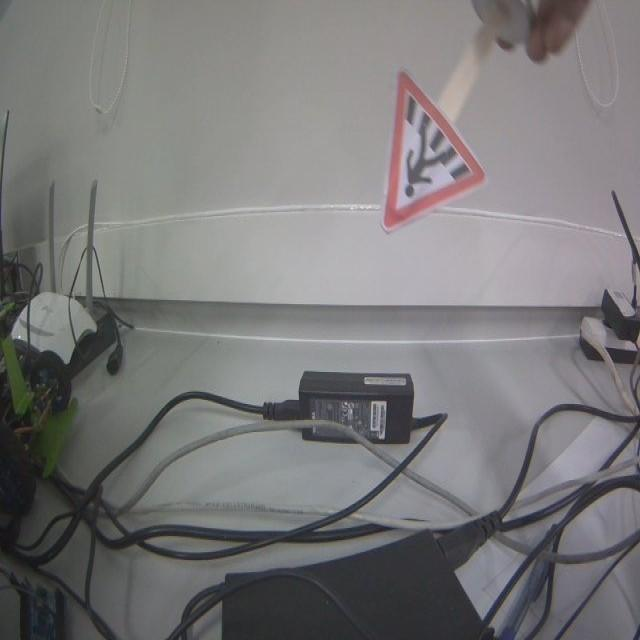Rambu Penyebrangan: (381, 71, 484, 236)
